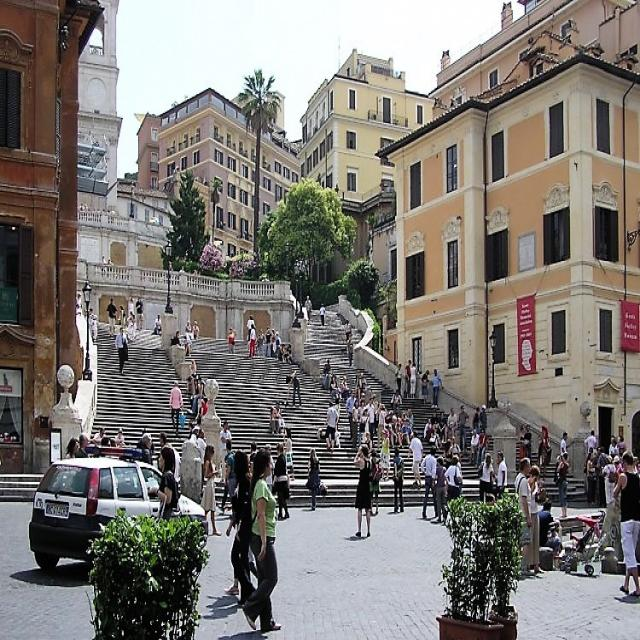body: (63, 278, 504, 480), (513, 421, 640, 500), (239, 447, 283, 635), (226, 448, 260, 610), (222, 451, 258, 596), (77, 123, 123, 225), (612, 448, 640, 600), (524, 462, 548, 577), (146, 444, 179, 525), (514, 456, 534, 582), (200, 443, 222, 537), (353, 443, 374, 538), (270, 438, 291, 525), (419, 443, 439, 520), (405, 428, 425, 493), (538, 497, 560, 552), (544, 522, 566, 577), (476, 452, 496, 507), (433, 454, 448, 525), (167, 379, 186, 435), (304, 447, 320, 512), (556, 449, 570, 518), (443, 453, 463, 501), (282, 367, 304, 409), (392, 448, 405, 517), (114, 324, 130, 376), (494, 450, 509, 500), (219, 419, 233, 469), (104, 295, 118, 336), (318, 301, 327, 328), (304, 295, 312, 321), (154, 314, 162, 338), (486, 493, 496, 506)
